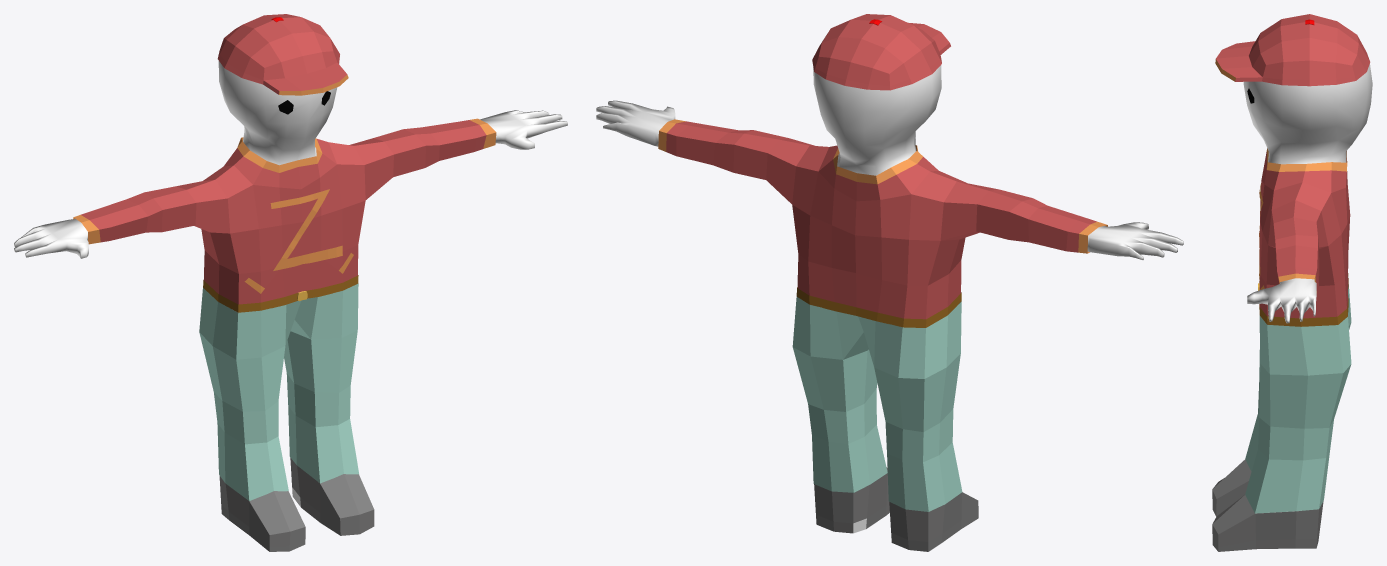
Rendered from normal.fbx.
The picture shows the model from 3 angles, left to right: view 1: azimuth 30°, elevation 25°; view 2: azimuth 150°, elevation 25°; view 3: azimuth 270°, elevation 25°; orthographic projection. The views are drawn at different scales.
Parts seen in each view (by area): view 1: Cube.001, Cube.002, Cube, Cube.003, Cube.004, Cube.007, Cube.005; view 2: Cube.001, Cube.002, Cube, Cube.004, Cube.003, Cube.005; view 3: Cube.002, Cube.001, Cube, Cube.004, Cube.003, Cube.005.
Boxes of the visible parts, x1,y1,x2,y2 form: Cube.001: (73, 118, 496, 304); Cube.002: (199, 283, 358, 500); Cube: (14, 61, 567, 309); Cube.003: (219, 458, 374, 551); Cube.004: (217, 14, 348, 95); Cube.007: (270, 189, 342, 270); Cube.005: (203, 275, 358, 312); Cube.001: (658, 119, 1107, 319); Cube.002: (792, 297, 962, 511); Cube: (596, 65, 1183, 327); Cube.004: (812, 14, 950, 90); Cube.003: (814, 467, 978, 551); Cube.005: (796, 287, 961, 327); Cube.002: (1245, 277, 1351, 513); Cube.001: (1259, 148, 1350, 318); Cube: (1243, 64, 1372, 513); Cube.004: (1215, 14, 1370, 86); Cube.003: (1212, 459, 1323, 551); Cube.005: (1258, 273, 1348, 326).
Bounding box in the file's own units: 702 × 604 × 173.
